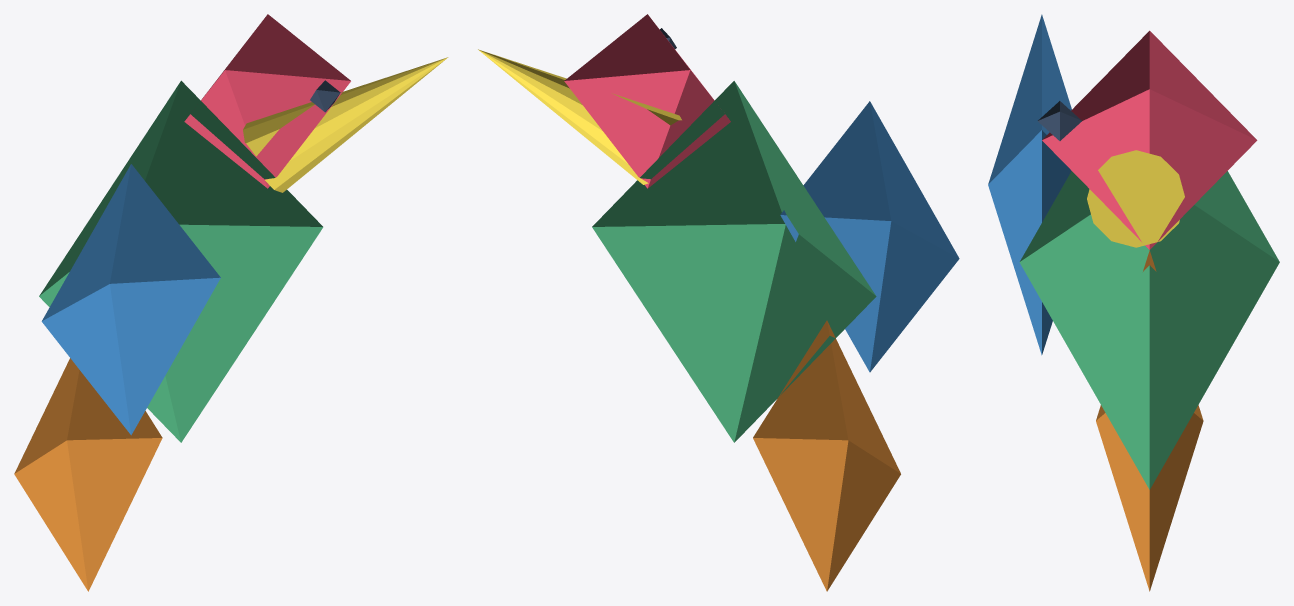
The model's file is minglora_reggae_parrot.gltf.
3 views of the same model, side by side, from view 1: azimuth 30°, elevation 25°; view 2: azimuth 150°, elevation 25°; view 3: azimuth 270°, elevation 25° (orthographic). The views are drawn at different scales.
Visible parts, largest first — view 1: minglora_reggae_parrot_0, minglora_reggae_parrot_3, minglora_reggae_parrot_4, minglora_reggae_parrot_1, minglora_reggae_parrot_2; view 2: minglora_reggae_parrot_0, minglora_reggae_parrot_4, minglora_reggae_parrot_3, minglora_reggae_parrot_1, minglora_reggae_parrot_2; view 3: minglora_reggae_parrot_0, minglora_reggae_parrot_1, minglora_reggae_parrot_3, minglora_reggae_parrot_4, minglora_reggae_parrot_2, minglora_reggae_parrot_5.
Boxes of the visible parts, x1,y1,x2,y2 form: minglora_reggae_parrot_0: (39, 80, 323, 442); minglora_reggae_parrot_3: (41, 164, 220, 435); minglora_reggae_parrot_4: (14, 358, 162, 591); minglora_reggae_parrot_1: (184, 14, 350, 188); minglora_reggae_parrot_2: (243, 57, 448, 192); minglora_reggae_parrot_0: (592, 81, 876, 442); minglora_reggae_parrot_4: (753, 320, 900, 591); minglora_reggae_parrot_3: (780, 101, 959, 372); minglora_reggae_parrot_1: (564, 14, 730, 188); minglora_reggae_parrot_2: (478, 49, 681, 184); minglora_reggae_parrot_0: (1019, 171, 1279, 489); minglora_reggae_parrot_1: (1042, 30, 1257, 249); minglora_reggae_parrot_3: (988, 14, 1071, 355); minglora_reggae_parrot_4: (1096, 250, 1203, 591); minglora_reggae_parrot_2: (1087, 150, 1184, 247); minglora_reggae_parrot_5: (1038, 101, 1081, 140).
Size of the model in its own units: 1.44 by 1.65 by 0.65.
